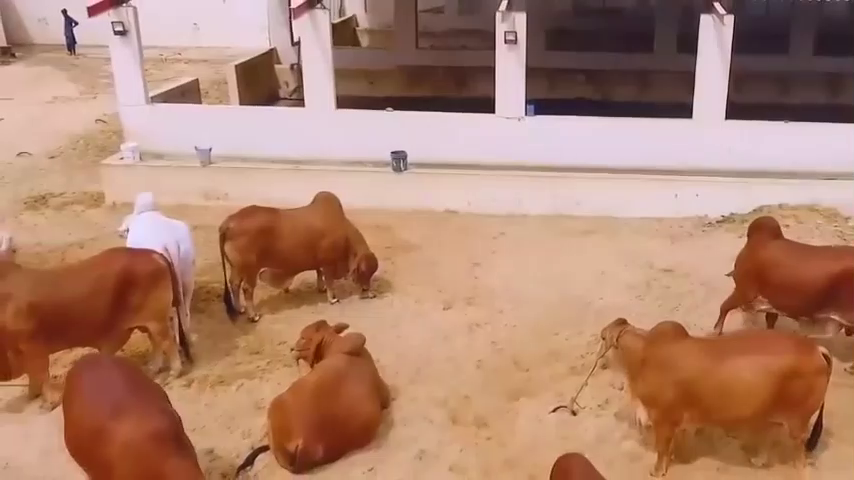bo: (584, 309, 822, 467), (6, 246, 182, 411), (206, 178, 390, 333), (48, 342, 220, 479), (702, 205, 853, 346), (263, 316, 388, 475), (118, 192, 205, 340)
